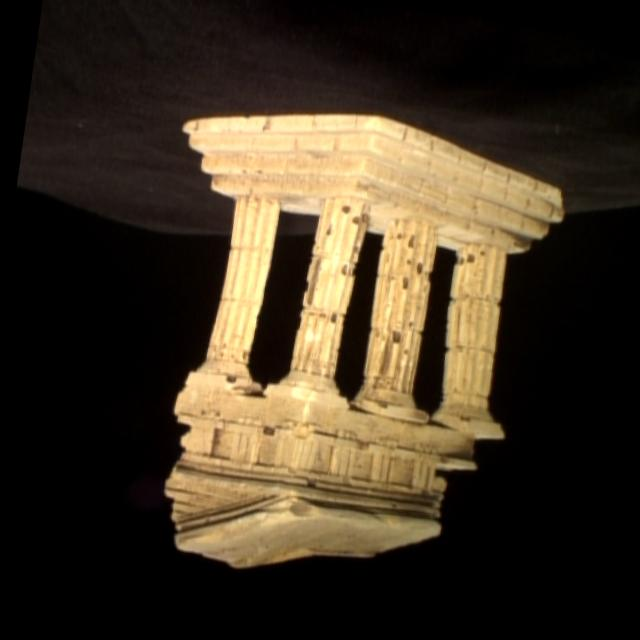Instance-Segmentation: (166, 112, 560, 566)
